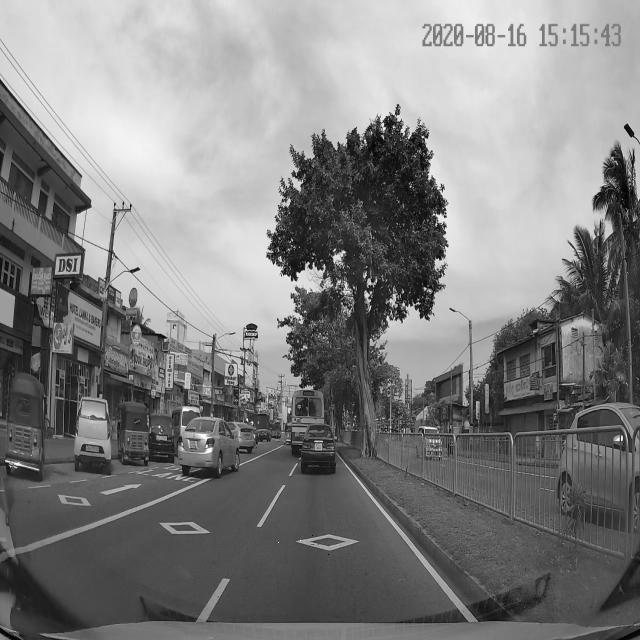diamond: (238, 522, 428, 563)
